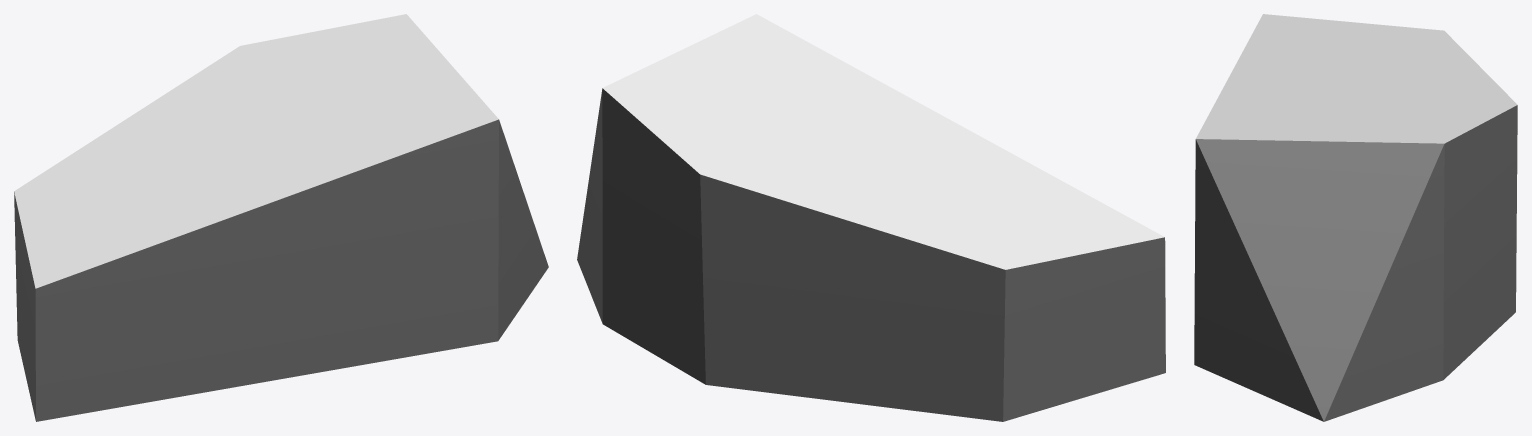
Rendered from stone winter small 2.fbx.
3 renders of one model, left to right at view 1: azimuth 30°, elevation 25°; view 2: azimuth 150°, elevation 25°; view 3: azimuth 270°, elevation 25°, orthographic. The views are drawn at different scales.
Parts seen in each view (by area): view 1: stone winter small 2; view 2: stone winter small 2; view 3: stone winter small 2.
Boxes of the visible parts, x1,y1,x2,y2 form: stone winter small 2: (14, 14, 548, 421); stone winter small 2: (577, 14, 1165, 421); stone winter small 2: (1194, 14, 1517, 421).
Size of the model in its own units: 96 by 38.94 by 48.26.
